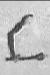D34: (5, 1, 46, 74)
